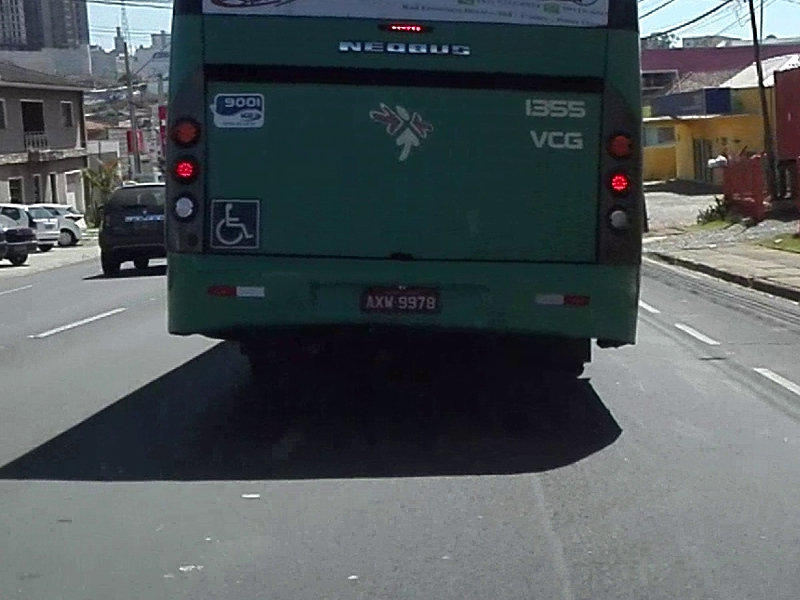placa: (361, 288, 439, 313)
